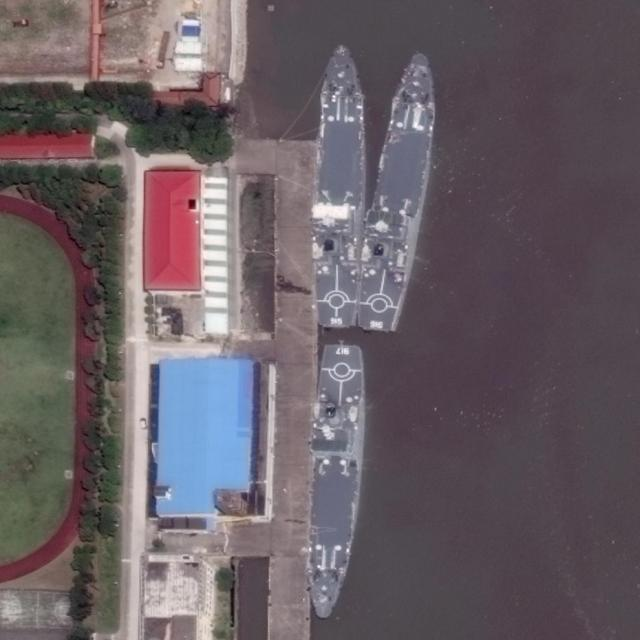Landing: (356, 50, 442, 334), (303, 343, 365, 621), (314, 46, 366, 326)
